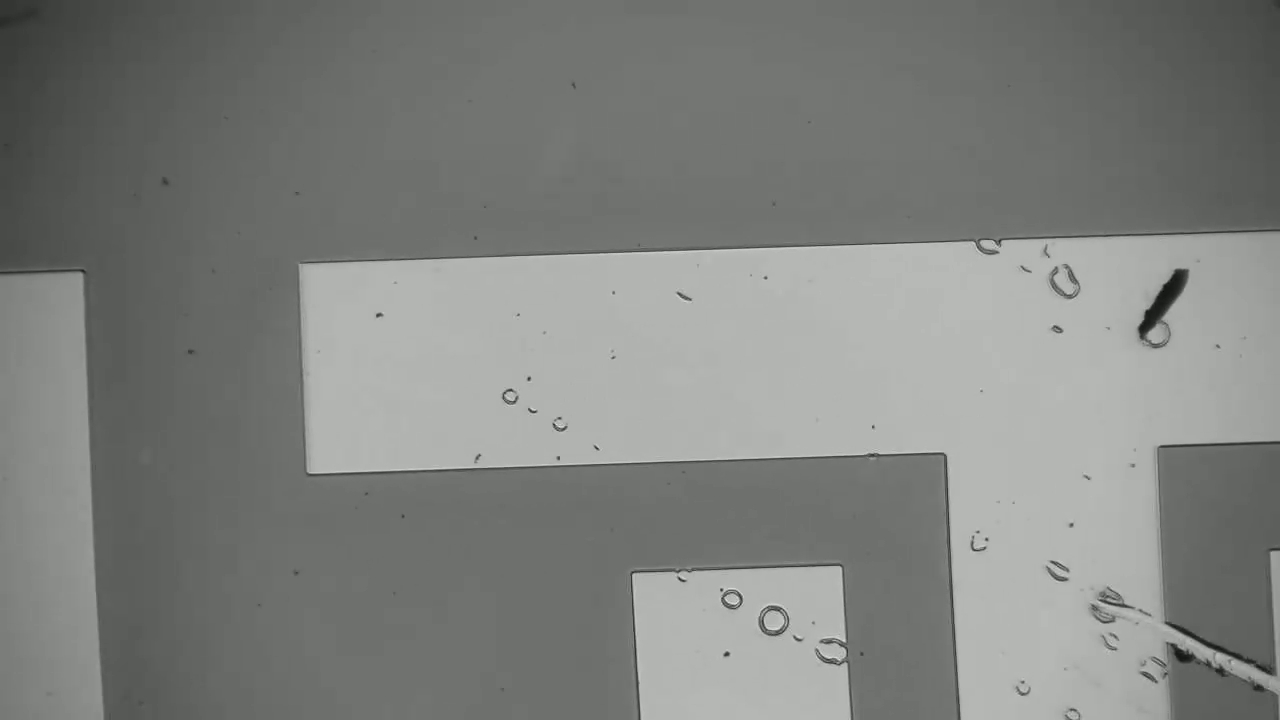Short_circuit: (1127, 587, 1280, 720)
